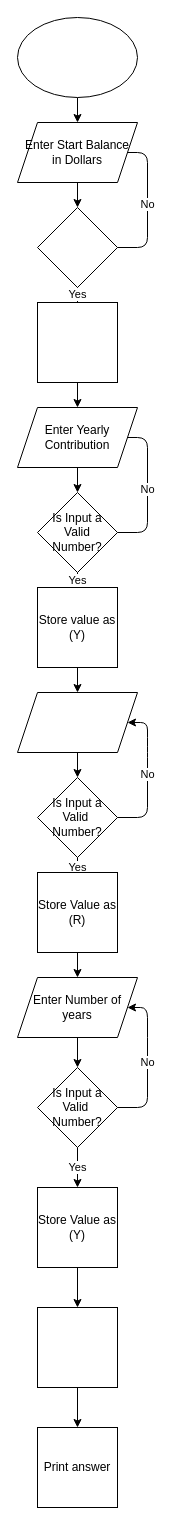
Image size: 173x1525. Some labels were removed from this diagram. Each missing label, with the centre of its shape:
"Enter Average Return On Investment as %" belongs at [77,722].
"Is it a valid number?" belongs at [77,247].
"Plug all stored values into equation" belongs at [77,1347].
"Start" belongs at [77,57].
"Store value as (D)" belongs at [77,342].
